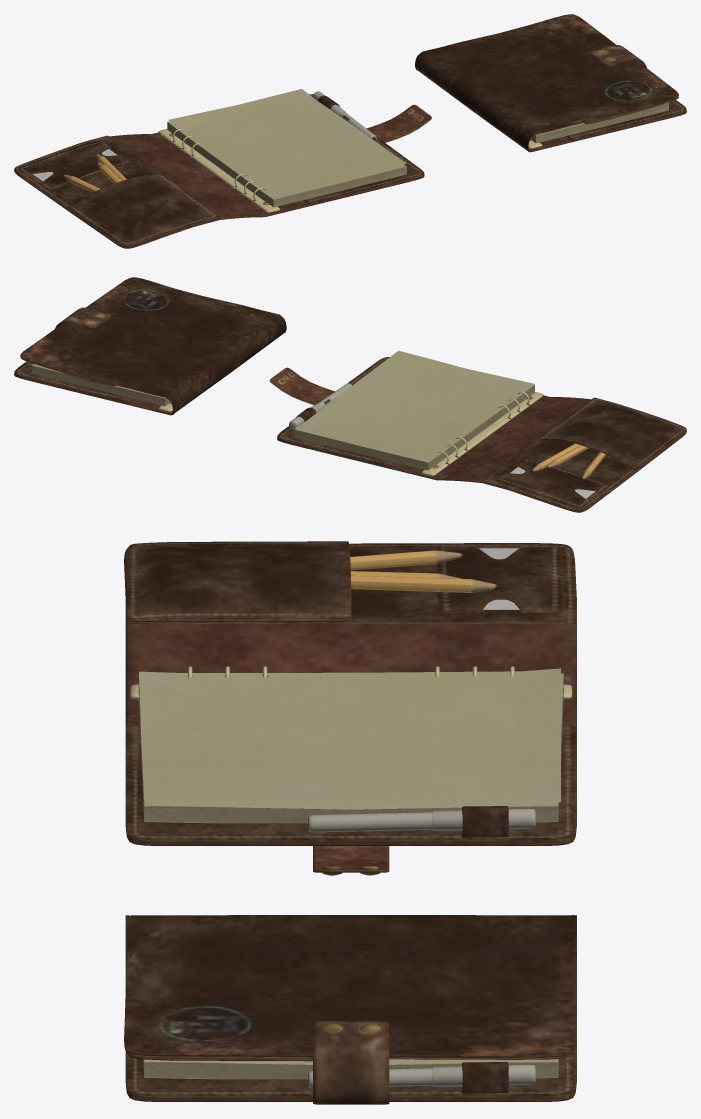
Rendered from ph_binder_notebook.glb.
3 renders of one model, top to bottom at view 1: azimuth 30°, elevation 25°; view 2: azimuth 150°, elevation 25°; view 3: azimuth 270°, elevation 25°, orthographic. The views are drawn at different scales.
Parts seen in each view (by area): view 1: binder_notebook; view 2: binder_notebook; view 3: binder_notebook.
Boxes of the visible parts, bbox=[...] form: binder_notebook: bbox=[14, 14, 686, 248]; binder_notebook: bbox=[14, 277, 686, 512]; binder_notebook: bbox=[124, 541, 576, 1104].
Bounding box in the file's own units: 0.584 × 0.0253 × 0.1999.
1 material, 1 textured.
